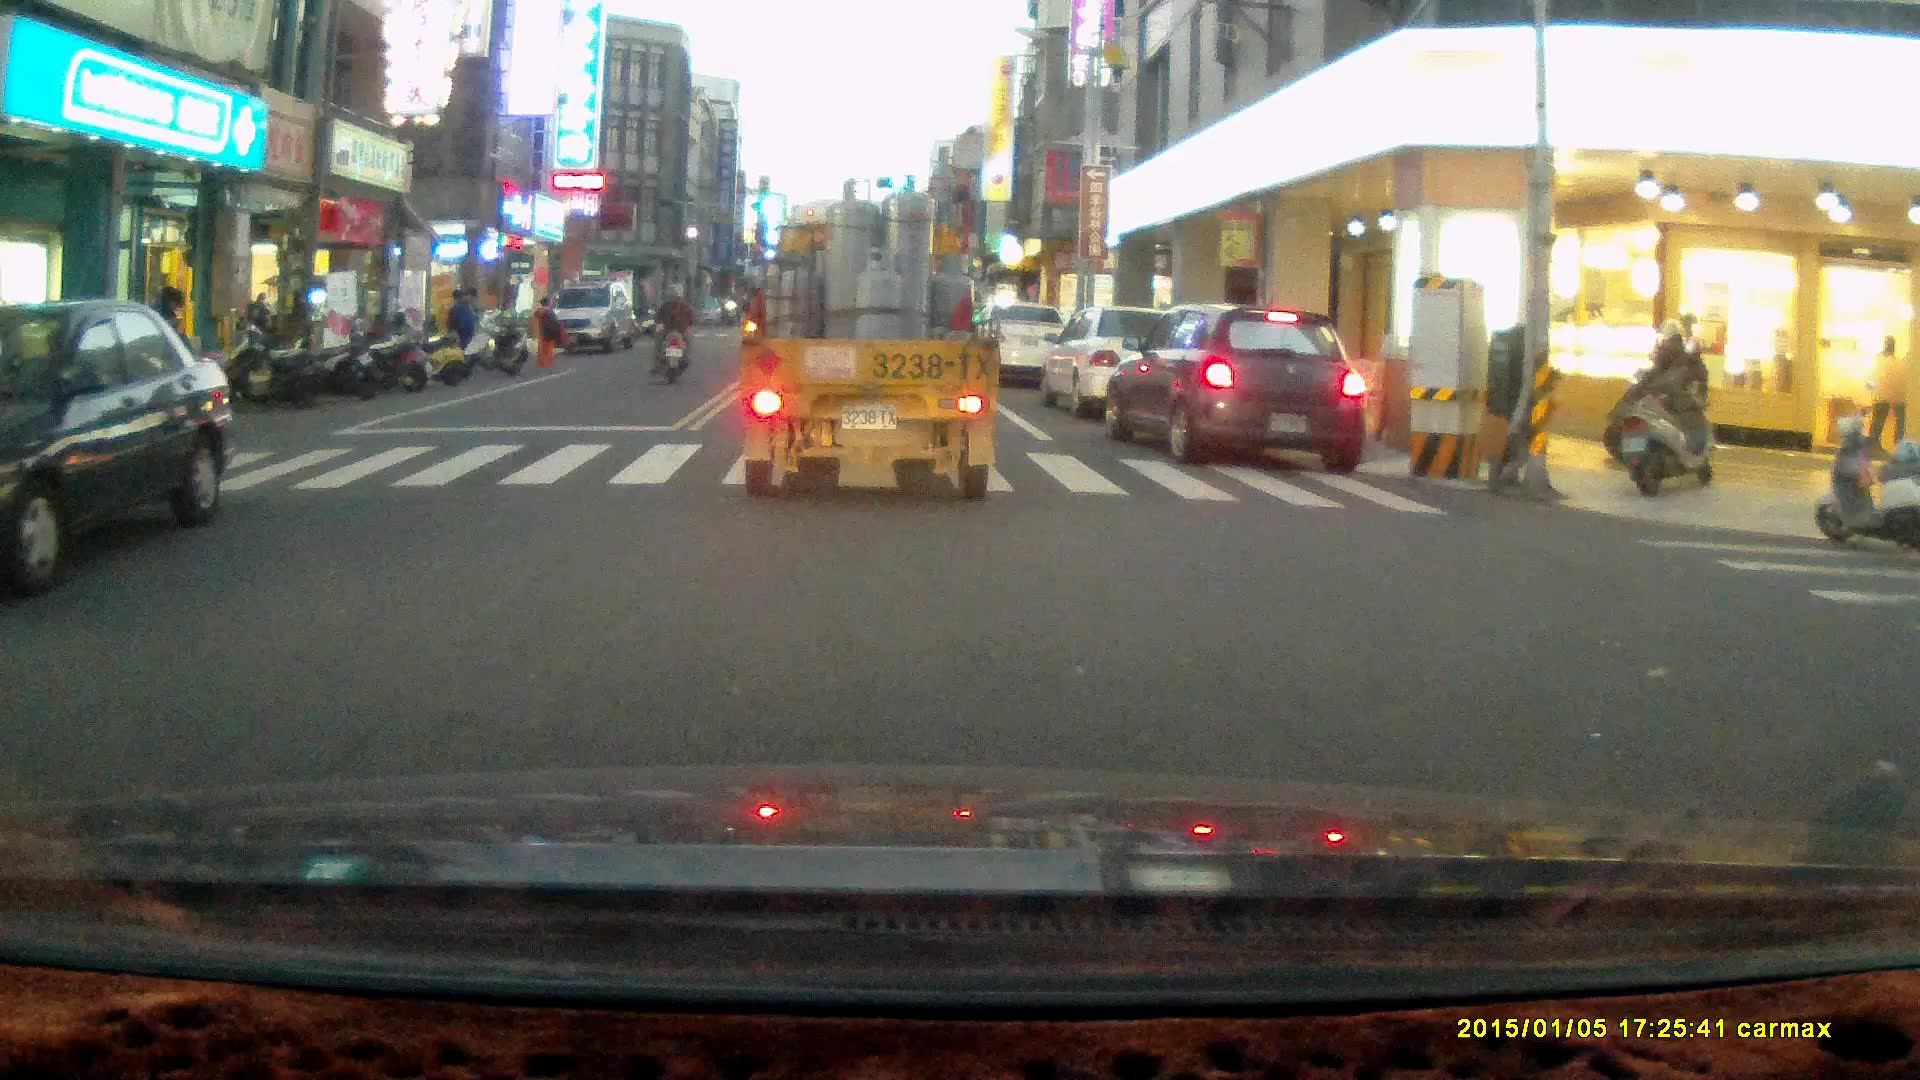pedestrian: (445, 283, 481, 370), (529, 293, 566, 368)
rider: (1600, 316, 1710, 470), (647, 278, 694, 384)
vehicle: (739, 171, 1000, 505), (1, 298, 231, 605), (1108, 302, 1366, 472), (1049, 305, 1216, 421), (974, 301, 1077, 390), (545, 283, 641, 355)
